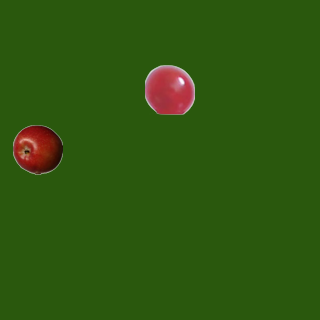Apple Braeburn: (12, 124, 62, 174)
Redcurrant: (144, 64, 194, 114)
